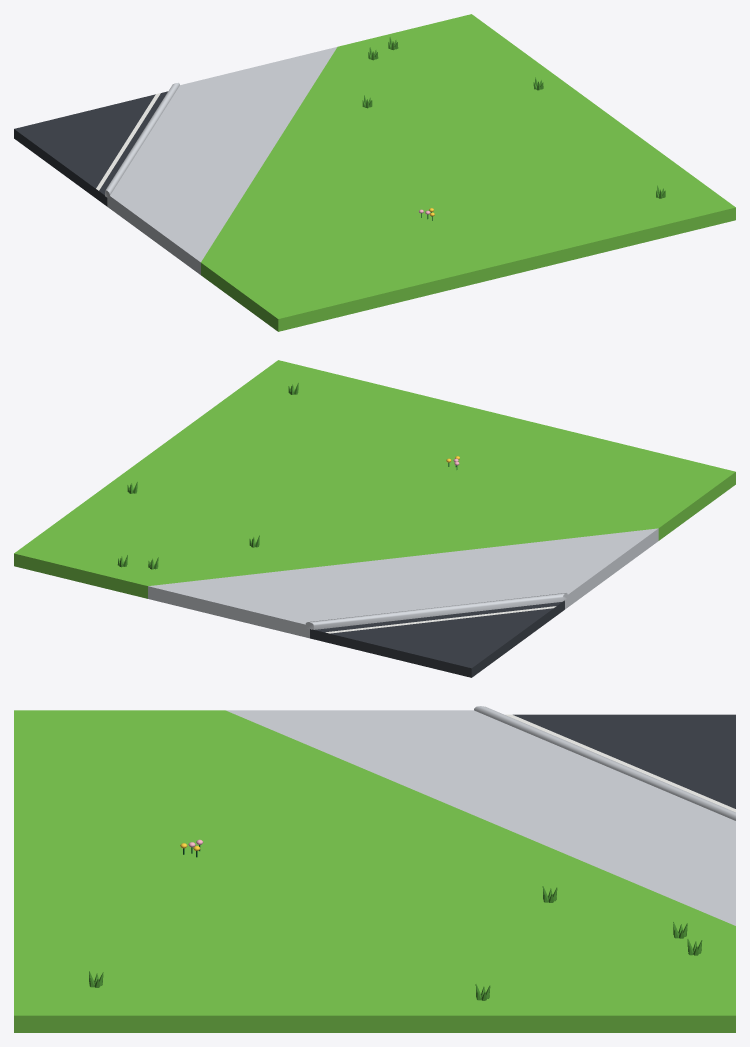
File: rua_diagonal_enchimento_grama.glb
3 renders of one model, top to bottom at view 1: azimuth 30°, elevation 25°; view 2: azimuth 150°, elevation 25°; view 3: azimuth 270°, elevation 25°, orthographic. The views are drawn at different scales.
Parts seen in each view (by area): view 1: rua_diagonal_enchimento_grama; view 2: rua_diagonal_enchimento_grama; view 3: rua_diagonal_enchimento_grama.
Boxes of the visible parts, left/top/right/bottom form: rua_diagonal_enchimento_grama: left=14, top=14, right=735, bottom=331; rua_diagonal_enchimento_grama: left=14, top=360, right=735, bottom=677; rua_diagonal_enchimento_grama: left=14, top=706, right=735, bottom=1032.
Bounding box in the file's own units: 15 × 0.6919 × 15.
Materials: 1 (1 with a texture image).
